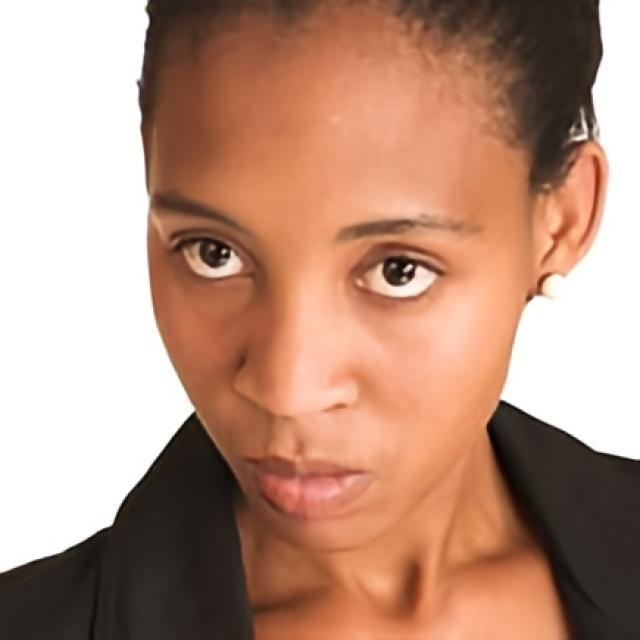neutral: (145, 8, 531, 552)
